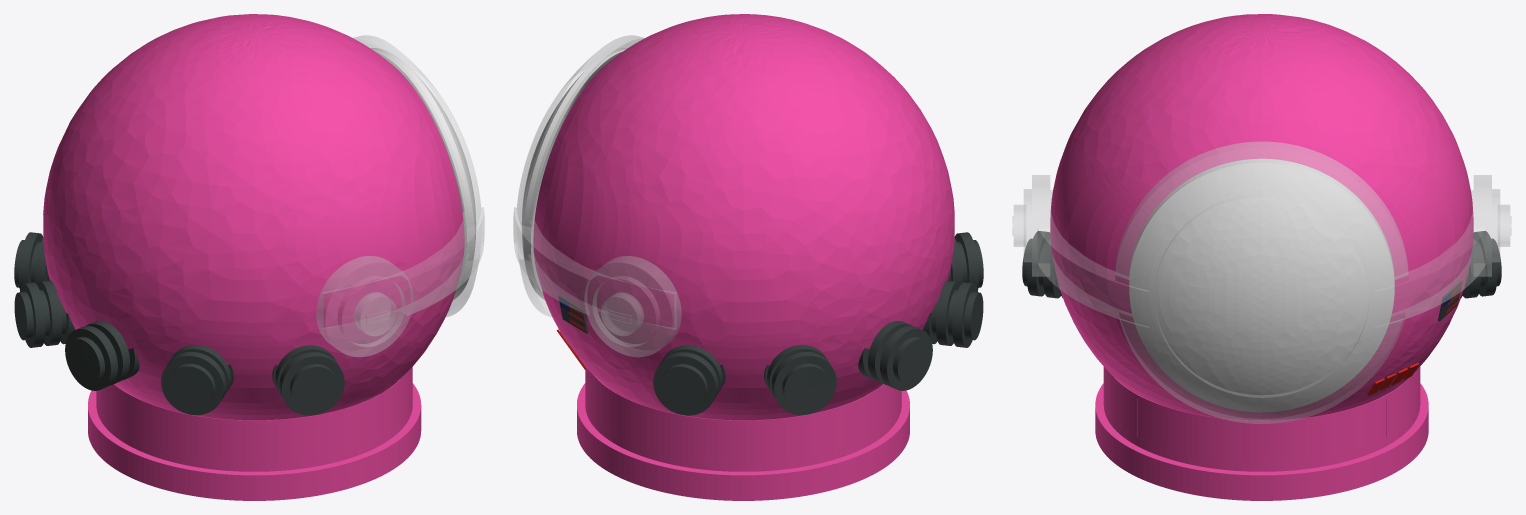
Rendered from Astronomy_Astronaut_helmet__0208.glb.
3 renders of one model, left to right at view 1: azimuth 30°, elevation 25°; view 2: azimuth 150°, elevation 25°; view 3: azimuth 270°, elevation 25°, orthographic.
Parts seen in each view (by area): view 1: shell::shell_body, shell::neck_collar, visor::visor_frame, shell::neck_seat, shell::port_5, shell::port_4, shell::port_3, visor::visor_bubble, shell::port_2, shell::port_1, visor::pivot_knob_1; view 2: shell::shell_body, shell::neck_collar, visor::visor_frame, shell::neck_seat, shell::port_0, shell::port_1, shell::port_2, visor::visor_bubble, shell::port_3, shell::port_4, visor::pivot_knob_0; view 3: shell::shell_body, visor::visor_bubble, visor::visor_frame, shell::neck_collar, shell::neck_seat, shell::port_0, shell::port_5, visor::pivot_knob_0, visor::pivot_knob_1.
Part boxes in pixels (box(x1,y1,x2,y2)): shell::shell_body: box(43, 14, 464, 420); shell::neck_collar: box(88, 369, 421, 500); visor::visor_frame: box(316, 35, 484, 356); shell::neck_seat: box(96, 367, 412, 465); shell::port_5: box(272, 345, 344, 415); shell::port_4: box(161, 345, 233, 415); shell::port_3: box(65, 321, 139, 390); visor::visor_bubble: box(370, 48, 476, 299); shell::port_2: box(14, 280, 75, 347); shell::port_1: box(14, 232, 49, 289); visor::pivot_knob_1: box(354, 292, 396, 335); shell::shell_body: box(533, 14, 954, 420); shell::neck_collar: box(577, 369, 909, 500); visor::visor_frame: box(513, 35, 681, 356); shell::neck_seat: box(585, 368, 901, 465); shell::port_0: box(653, 345, 725, 415); shell::port_1: box(764, 345, 836, 415); shell::port_2: box(858, 321, 932, 390); visor::visor_bubble: box(521, 48, 627, 299); shell::port_3: box(923, 280, 983, 347); shell::port_4: box(948, 232, 983, 289); visor::pivot_knob_0: box(601, 292, 643, 335); shell::shell_body: box(1050, 14, 1473, 420); visor::visor_bubble: box(1129, 158, 1394, 412); visor::visor_frame: box(1024, 142, 1499, 423); shell::neck_collar: box(1095, 371, 1428, 500); shell::neck_seat: box(1103, 366, 1420, 465); shell::port_0: box(1461, 231, 1501, 298); shell::port_5: box(1022, 231, 1062, 298); visor::pivot_knob_0: box(1498, 205, 1511, 246); visor::pivot_knob_1: box(1012, 205, 1025, 246).
Size of the model in its own units: 0.3221 by 0.3053 by 0.3482.
14 materials, 1 textured.
